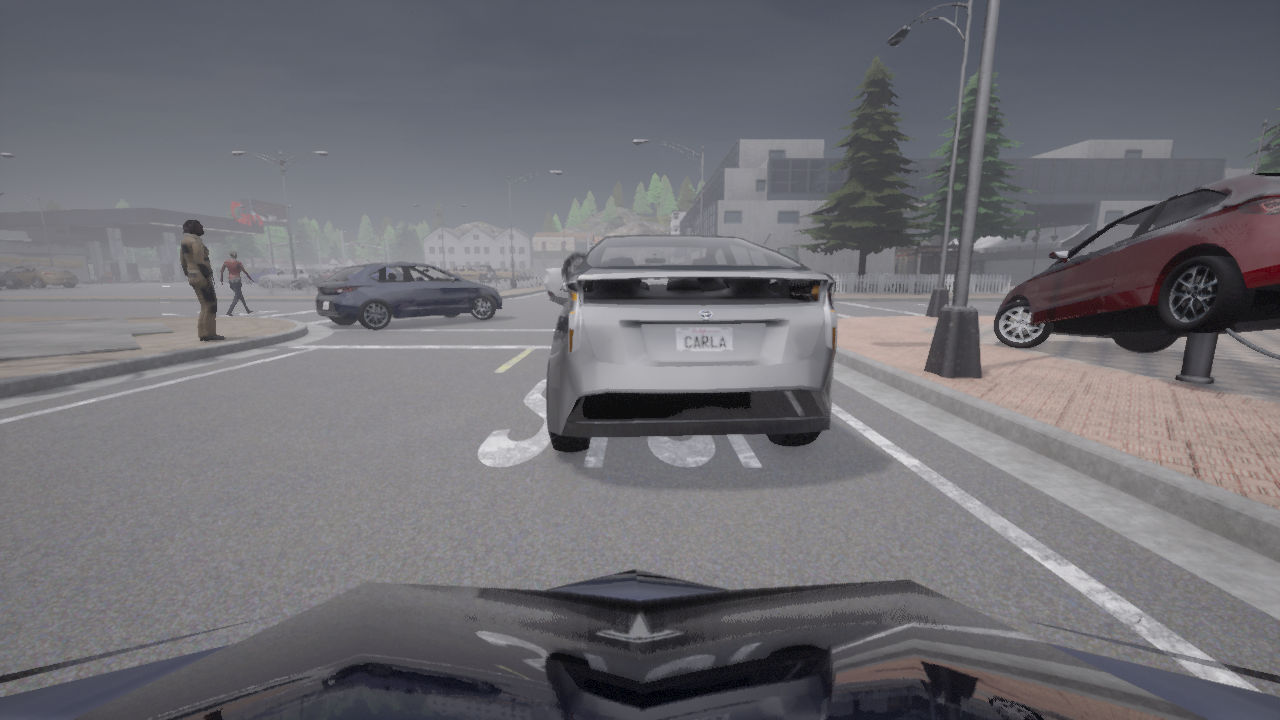cyclist: (0, 569, 1279, 719), (546, 235, 836, 452), (993, 172, 1279, 351), (315, 262, 502, 329), (544, 252, 586, 304), (4, 266, 79, 288), (259, 268, 323, 288), (447, 265, 495, 282), (242, 268, 280, 283), (495, 268, 526, 279), (506, 270, 530, 279), (318, 269, 339, 277), (477, 265, 494, 271), (335, 267, 345, 269), (100, 277, 105, 280)
pedestrian: (180, 219, 225, 341), (220, 249, 254, 315)
